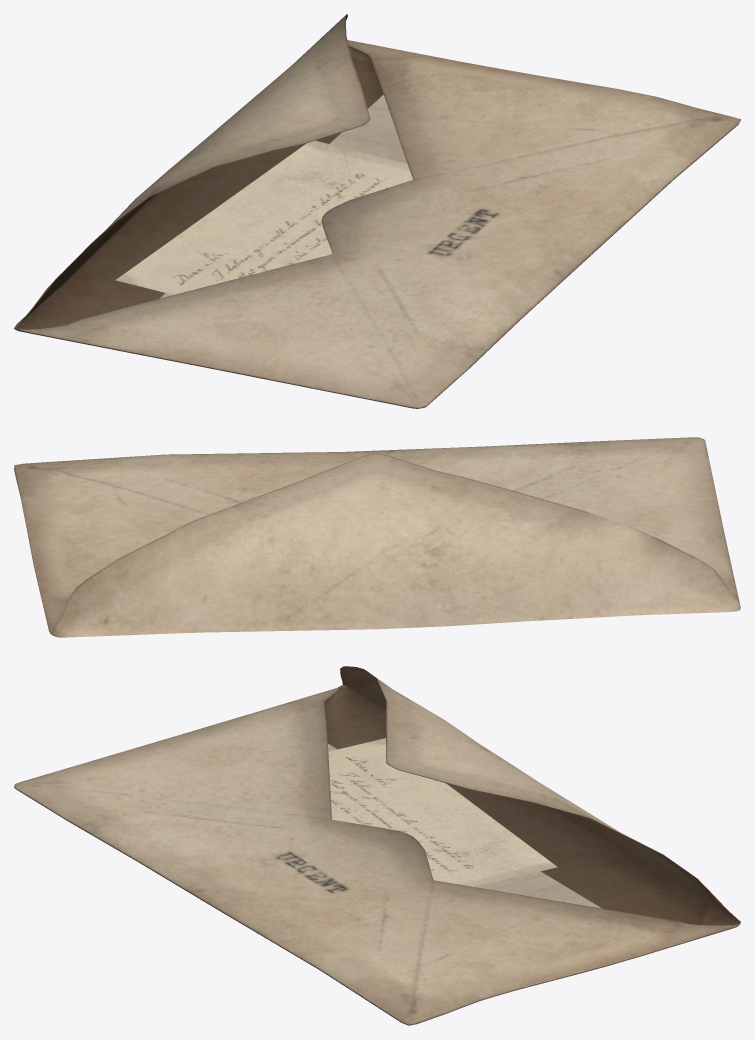
The model's file is bucthu.glb.
3 views of the same model, one above another, from view 1: azimuth 30°, elevation 25°; view 2: azimuth 150°, elevation 25°; view 3: azimuth 270°, elevation 25° (orthographic). The views are drawn at different scales.
Parts seen in each view (by area): view 1: Opened Envelope B; view 2: Opened Envelope B; view 3: Opened Envelope B.
Boxes of the visible parts, box(x1,y1,x2,y2) form: Opened Envelope B: box(14, 14, 740, 408); Opened Envelope B: box(14, 437, 740, 637); Opened Envelope B: box(14, 666, 740, 1025).
Size of the model in its own units: 0.1934 by 0.0256 by 0.176.
1 material, 1 textured.
